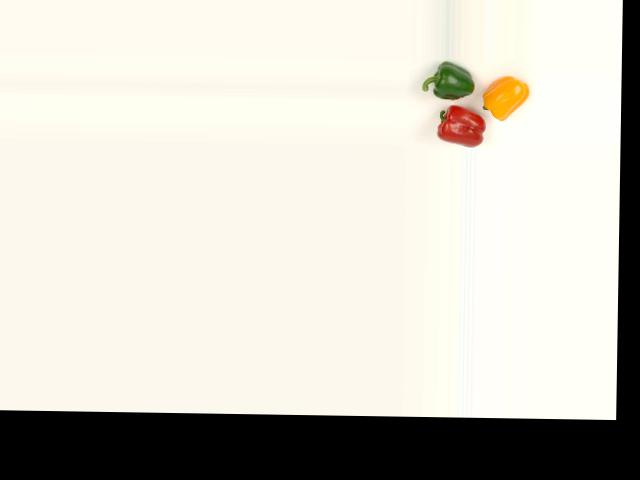bell_pepper: (420, 60, 475, 102)
